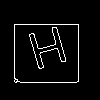H: (25, 25, 73, 80)
